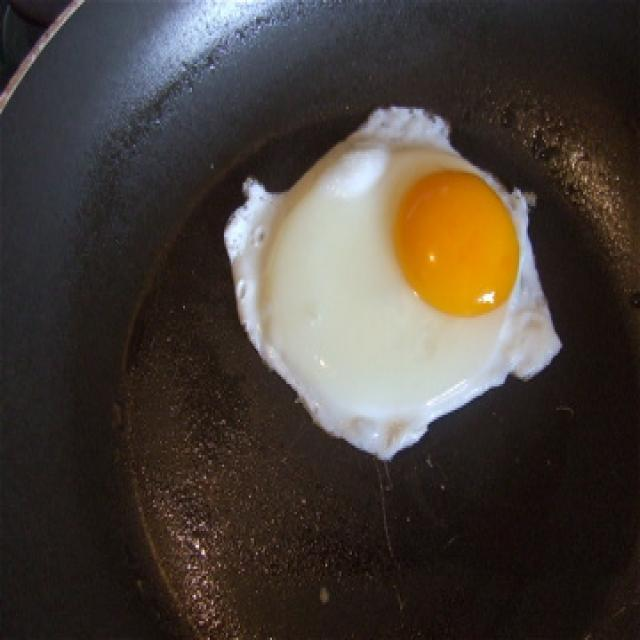Egg: (217, 90, 568, 466)
